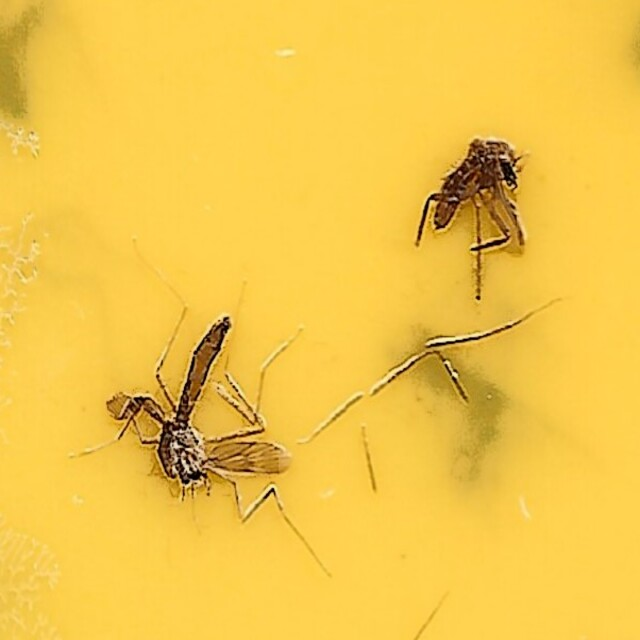Nematocera: (106, 304, 291, 507), (425, 133, 534, 264)
